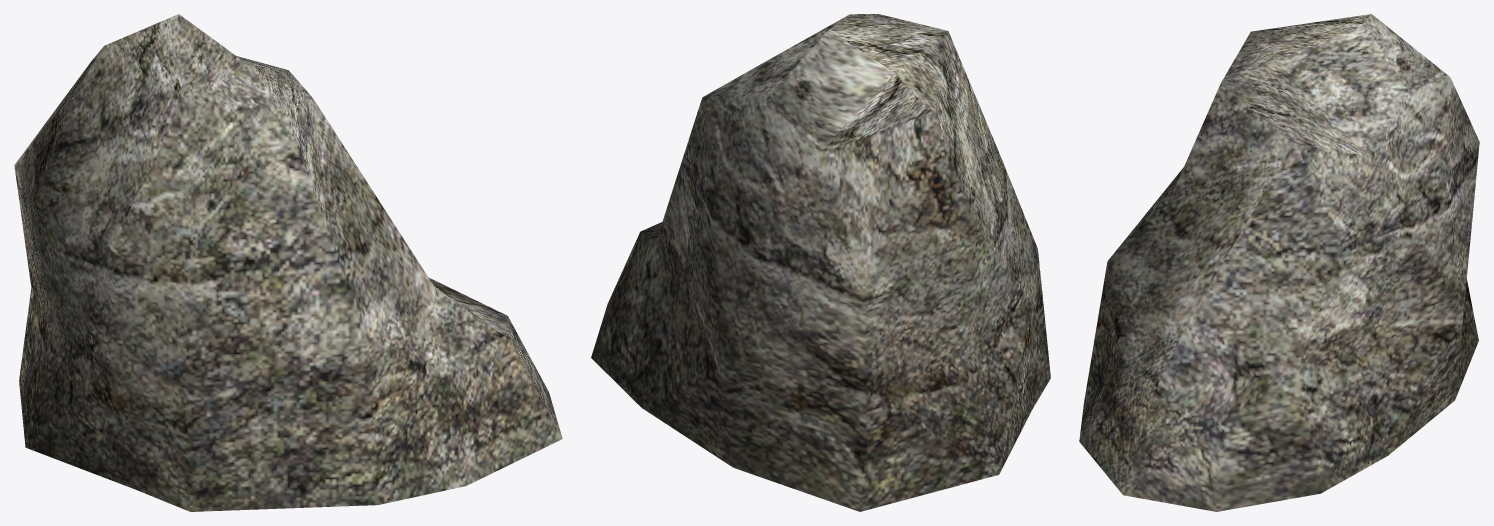
File: general_obj_stone05.fbx
3 views of the same model, side by side, from view 1: azimuth 30°, elevation 25°; view 2: azimuth 150°, elevation 25°; view 3: azimuth 270°, elevation 25° (orthographic). The views are drawn at different scales.
Visible parts, largest first — view 1: Sphere01; view 2: Sphere01; view 3: Sphere01.
Part boxes in pixels (x1,y1,x2,y2): Sphere01: [14, 14, 562, 511]; Sphere01: [591, 14, 1050, 511]; Sphere01: [1079, 14, 1479, 511].
Bounding box in the file's own units: 3.43 × 2.86 × 2.91.
